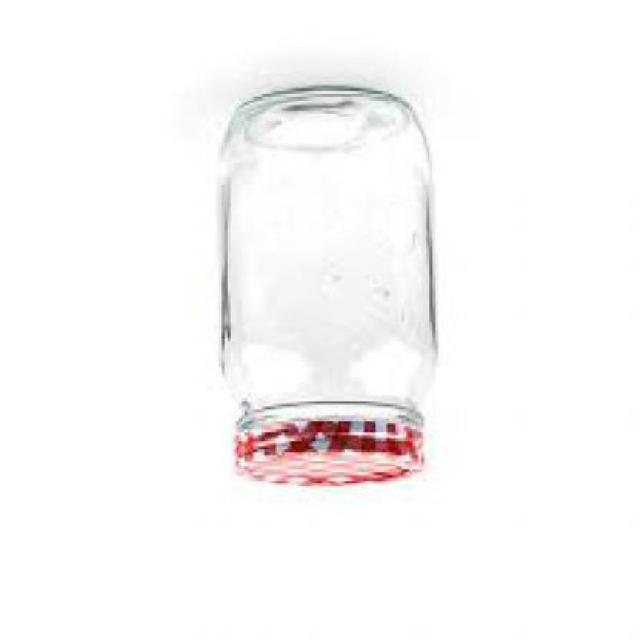GLASS: (219, 91, 438, 435)
METAL: (236, 424, 427, 488)
